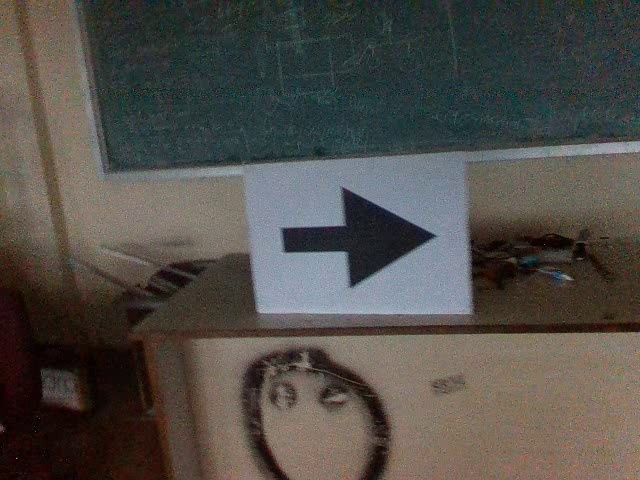Right: (273, 180, 440, 292)
